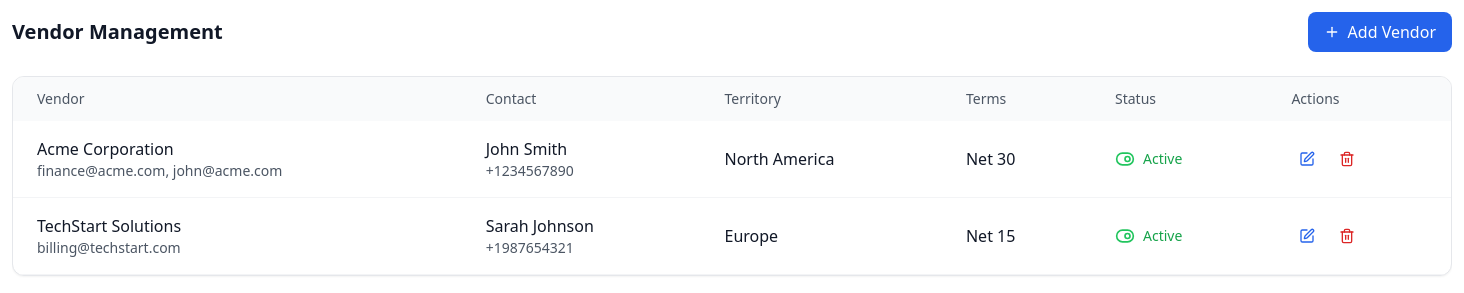
Scenario: VendorManagement › toggles vendor status when status button is clicked
The width and height of the screenshot is (1464, 293).
Click the button "Active" in the row of "Acme Corporation" at [1149, 159], box [1115, 149, 1182, 169]
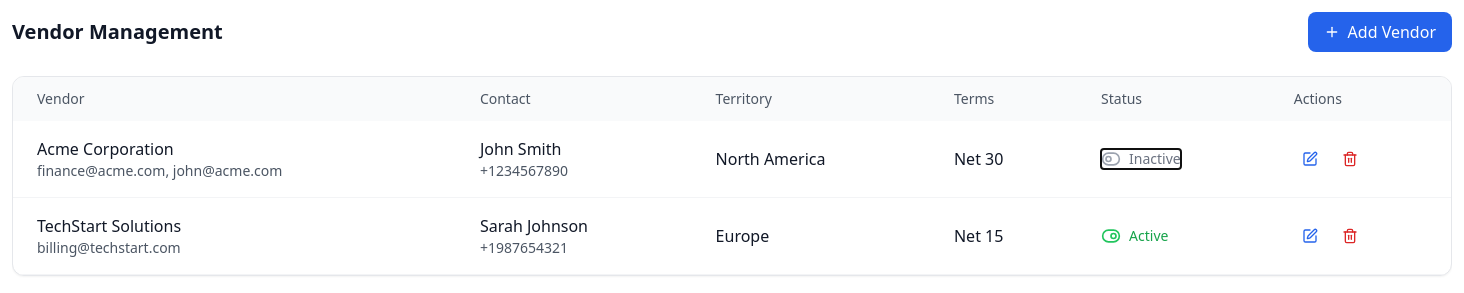
Now the button "Inactive" is shown, box [1101, 149, 1181, 169]
